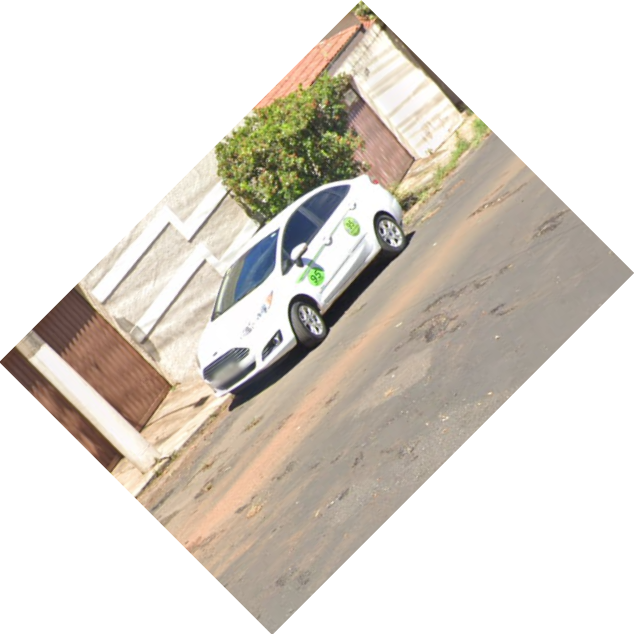car: (192, 167, 410, 400)
